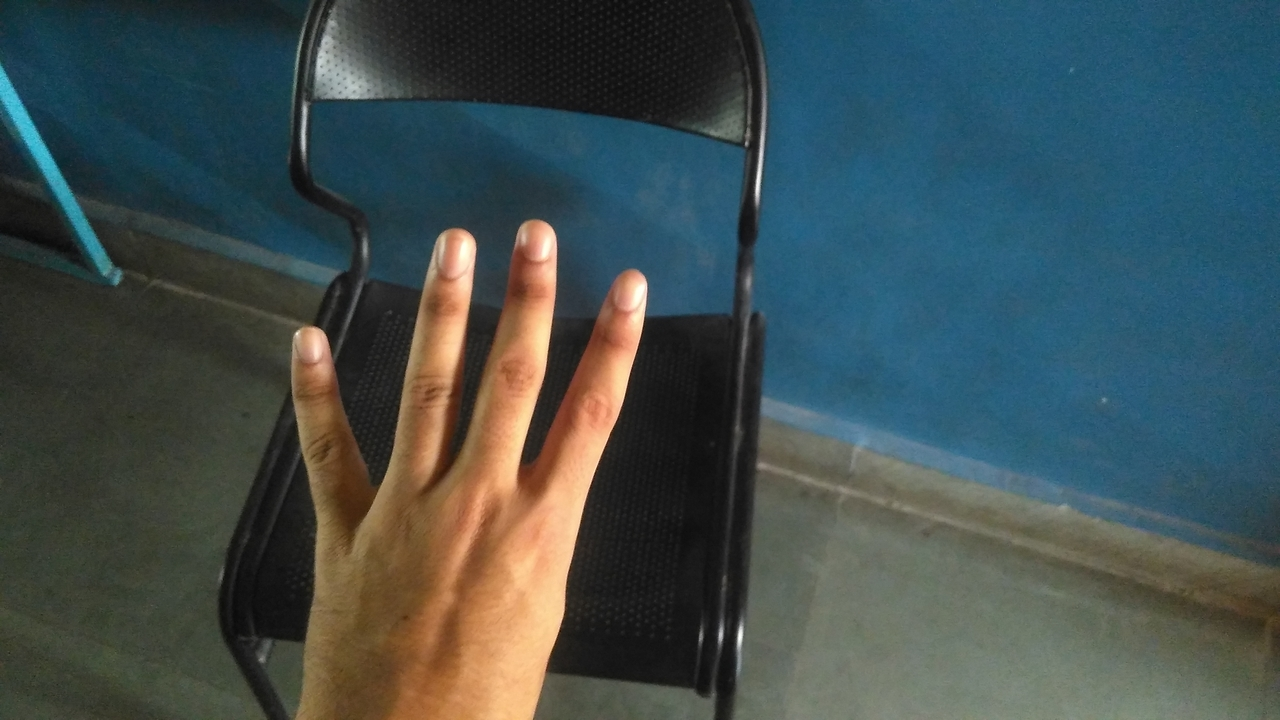fingertip: (416, 220, 480, 282), (500, 212, 562, 270), (596, 260, 656, 318), (278, 320, 332, 382)
